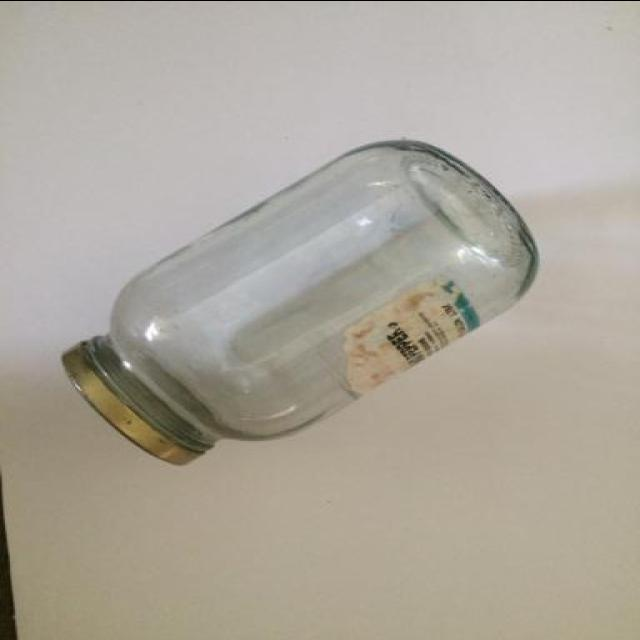glass: (45, 73, 592, 487)
